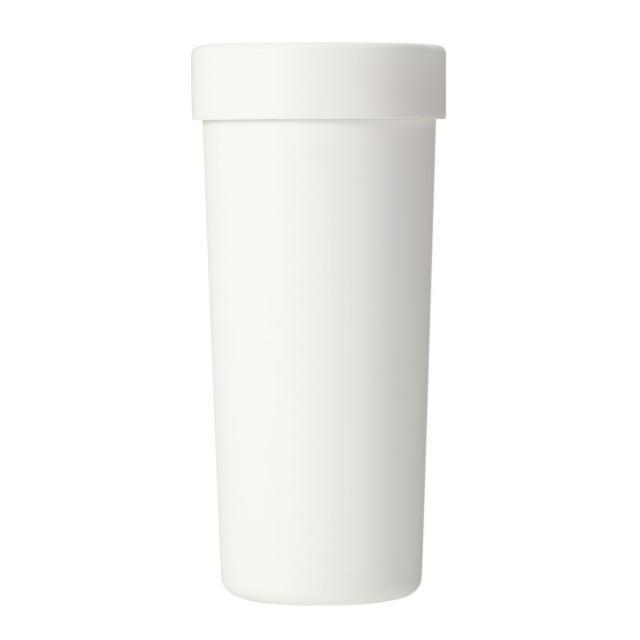Plastic: (185, 40, 444, 606)
